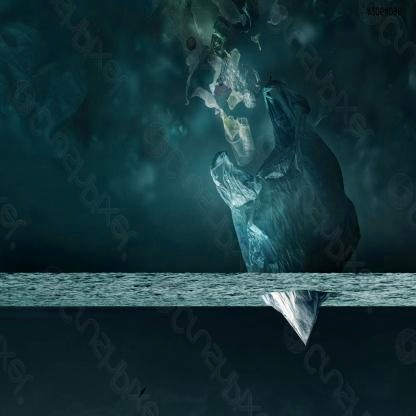pbag: (201, 74, 366, 355)
pbottle: (209, 57, 263, 107), (201, 18, 235, 55)
plastic: (219, 111, 256, 168)
